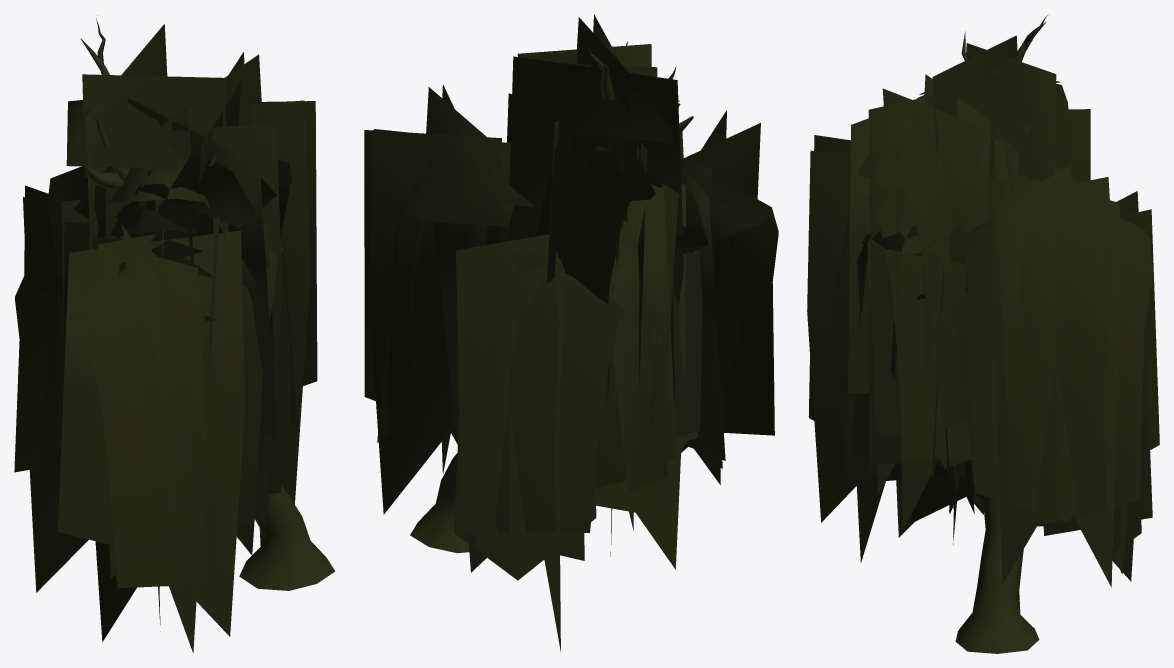
Rendered from willow02.glb.
3 views of the same model, side by side, from view 1: azimuth 30°, elevation 25°; view 2: azimuth 150°, elevation 25°; view 3: azimuth 270°, elevation 25° (orthographic). The views are drawn at different scales.
Parts seen in each view (by area): view 1: willow02_LOD0; view 2: willow02_LOD0; view 3: willow02_LOD0.
Part boxes in pixels (x1,y1,x2,y2): willow02_LOD0: (14, 15, 335, 652); willow02_LOD0: (364, 14, 778, 651); willow02_LOD0: (807, 14, 1159, 653).
Size of what is drawn, in the model's own units: 2.99 by 5.54 by 3.07.
